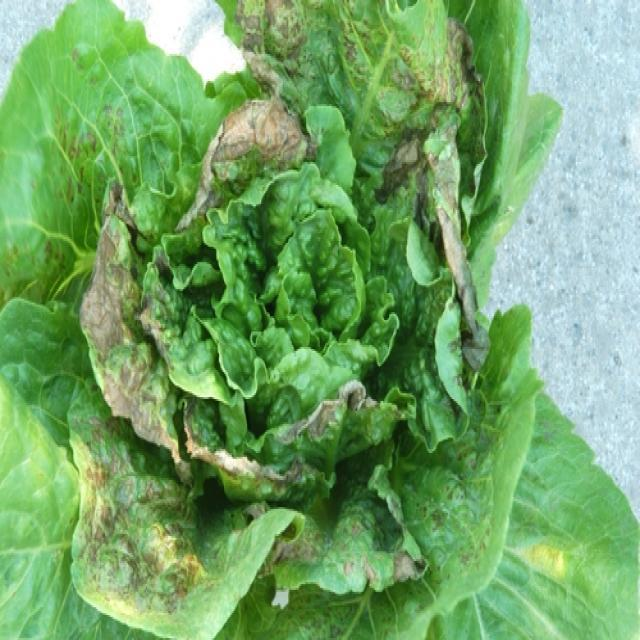Lettuce: (0, 10, 560, 640)
